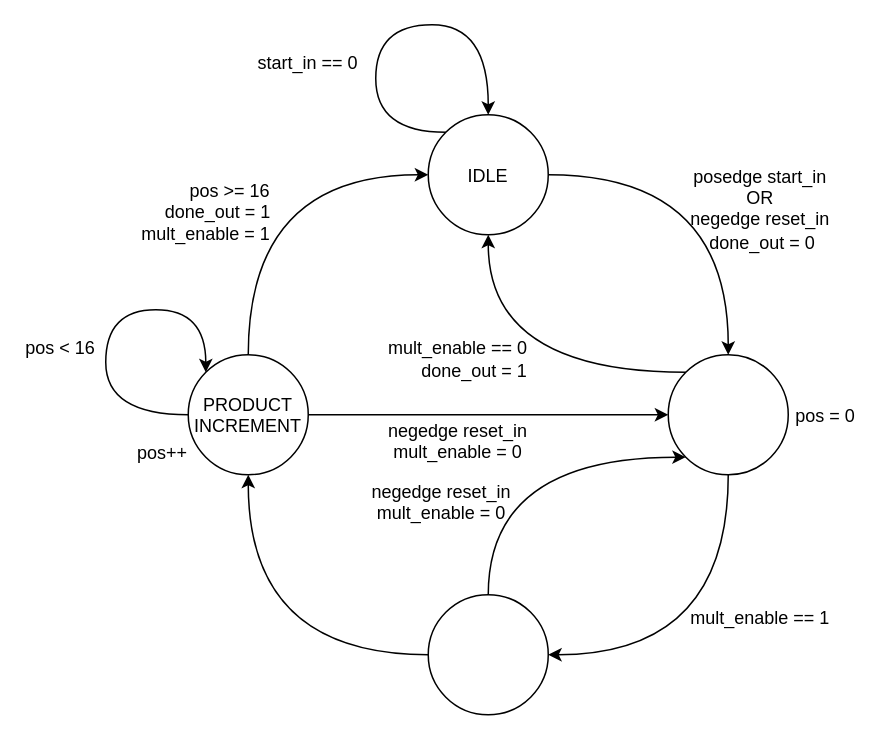
Image size: 881x740. Some labels were removed from this diagram. The centre of each missing label's shape, as x and y in pixels:
COMPLEMENT: point (487, 654)
RESET: point (727, 414)
